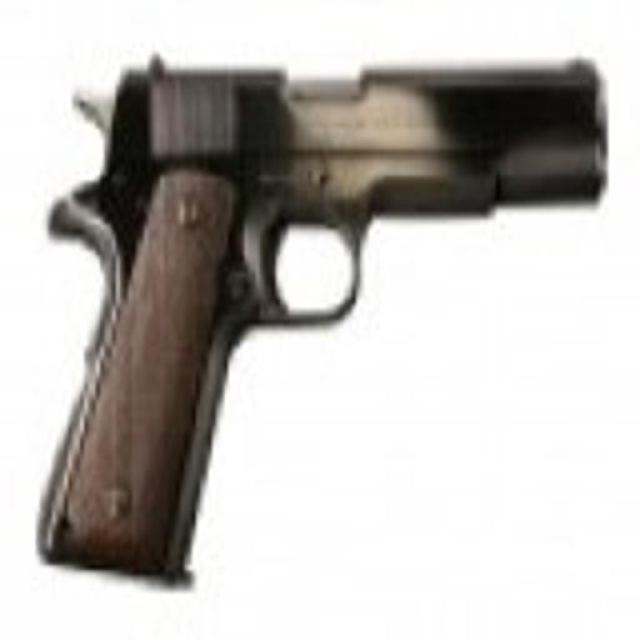pistol: (31, 36, 607, 581)
